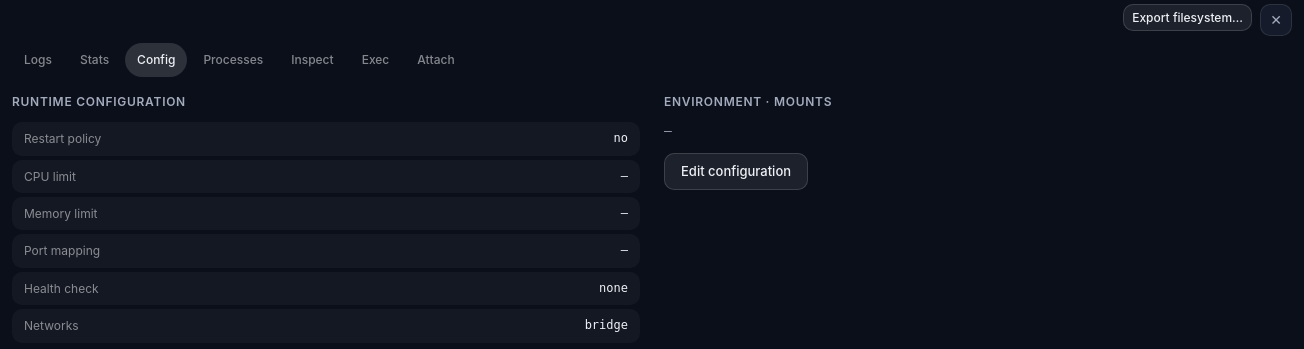
Test: ContainerDetailPanel — Stats and Processes tabs (REQ-32, REQ-33) › opens the live stats stream and shows the readings when the Stats tab is selected
Click the tab "Stats". click: (94, 60)
box: [68, 43, 121, 77]
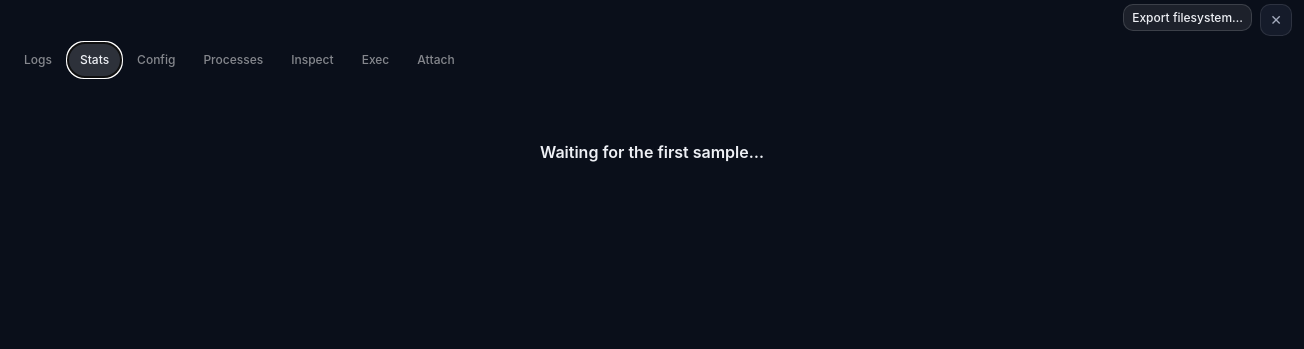
expect the text "Waiting for the first sample…" is shown: met, box [540, 141, 764, 164]
